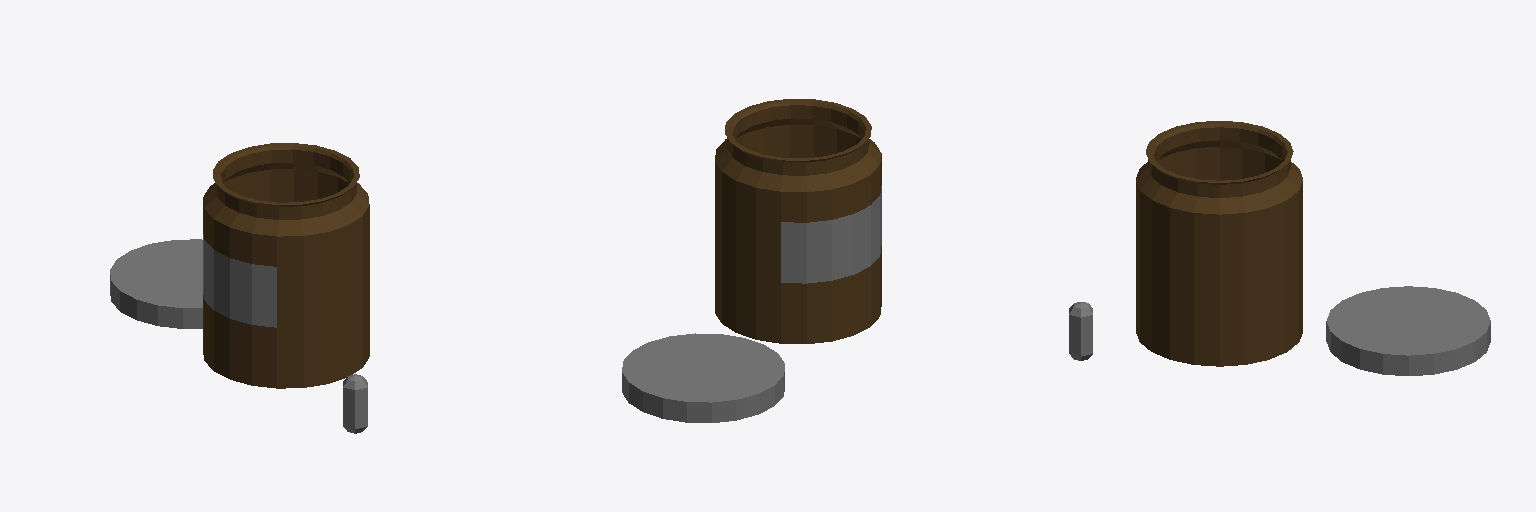
The model's file is SomaBox.obj.
The picture shows the model from 3 angles: view 1: azimuth 30°, elevation 25°; view 2: azimuth 150°, elevation 25°; view 3: azimuth 270°, elevation 25°; orthographic projection.
Visible parts, largest first — view 1: SomaBox_low_SomaBox_low, Couvercle_low_Couvercle_low, SomaPills_low_SomaPills_low; view 2: SomaBox_low_SomaBox_low, Couvercle_low_Couvercle_low; view 3: SomaBox_low_SomaBox_low, Couvercle_low_Couvercle_low, SomaPills_low_SomaPills_low.
Part boxes in pixels (x1,y1,x2,y2): SomaBox_low_SomaBox_low: (203, 143, 369, 388); Couvercle_low_Couvercle_low: (110, 239, 202, 328); SomaPills_low_SomaPills_low: (343, 374, 367, 433); SomaBox_low_SomaBox_low: (715, 99, 881, 343); Couvercle_low_Couvercle_low: (622, 333, 784, 422); SomaBox_low_SomaBox_low: (1136, 121, 1302, 366); Couvercle_low_Couvercle_low: (1326, 286, 1490, 375); SomaPills_low_SomaPills_low: (1069, 302, 1092, 360).
Bounding box in the file's own units: 5 × 6.84 × 12.57.